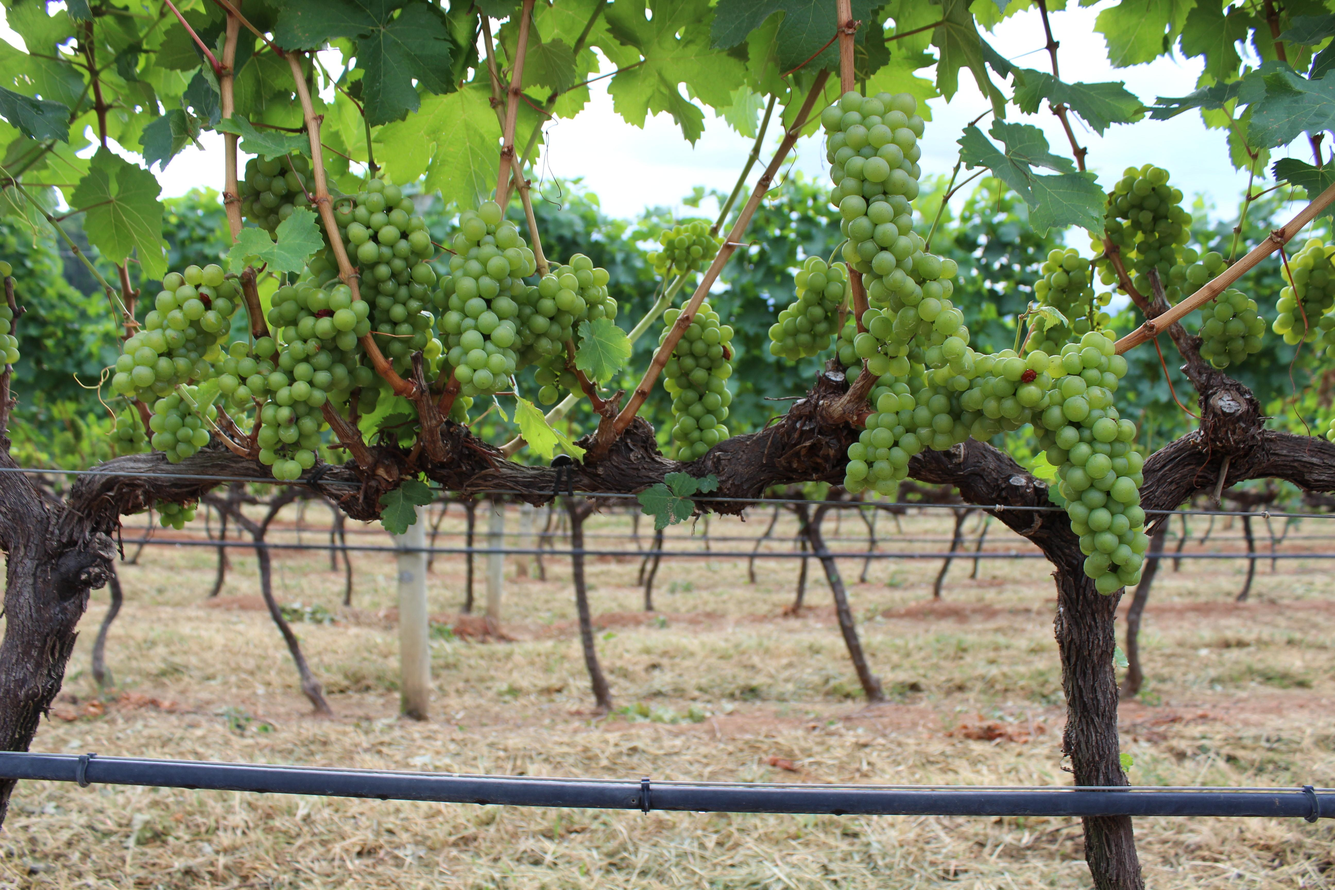leaf: (274, 0, 453, 125), (604, 0, 745, 142), (958, 121, 1104, 232), (69, 148, 167, 279), (357, 3, 452, 125), (958, 121, 1074, 206), (424, 84, 501, 206), (711, 0, 838, 72), (932, 0, 1005, 117), (1013, 69, 1144, 134), (1247, 62, 1335, 148), (1095, 0, 1195, 67), (273, 0, 404, 49), (227, 208, 323, 272), (0, 40, 86, 109), (1179, 3, 1250, 82), (867, 52, 939, 120), (1030, 172, 1105, 236), (637, 472, 718, 530), (515, 397, 585, 459), (216, 115, 310, 158), (0, 87, 70, 141), (1149, 81, 1245, 120), (5, 0, 74, 54), (576, 318, 631, 383), (139, 109, 198, 169), (524, 32, 576, 91), (379, 478, 433, 534), (637, 483, 695, 530), (716, 85, 765, 137), (1272, 158, 1335, 197), (182, 69, 220, 126), (227, 227, 274, 273), (1279, 14, 1335, 46), (851, 0, 882, 45), (1308, 43, 1335, 79), (664, 472, 700, 497), (476, 0, 521, 19), (66, 0, 92, 22), (493, 396, 509, 423), (1318, 205, 1335, 218), (417, 120, 421, 127), (416, 135, 421, 140), (405, 122, 411, 125), (407, 125, 411, 129), (923, 3, 927, 5), (715, 478, 716, 484), (419, 130, 420, 133), (933, 19, 935, 20), (743, 35, 744, 36), (393, 125, 397, 125), (998, 57, 999, 57), (994, 54, 994, 54)
